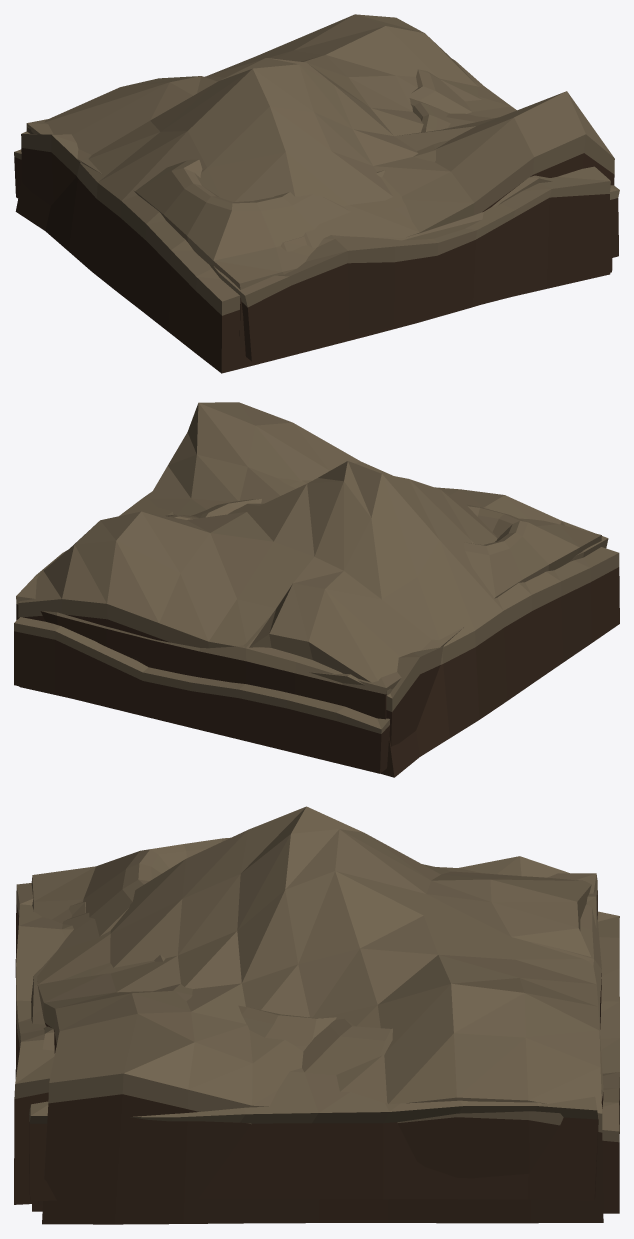
Rendered from MO_Ground.fbx.
The picture shows the model from 3 angles, top to bottom: view 1: azimuth 30°, elevation 25°; view 2: azimuth 150°, elevation 25°; view 3: azimuth 270°, elevation 25°; orthographic projection. The views are drawn at different scales.
Parts seen in each view (by area): view 1: ground.003, ground.001, ground, ground.002, gound.001; view 2: ground.003, ground.002, ground, ground.001, gound.001; view 3: ground.003, ground, ground.001, ground.002, gound.001.
Part boxes in pixels (x1,y1,x2,y2): ground.003: (15, 14, 614, 373); ground.001: (21, 131, 610, 361); ground: (26, 59, 619, 347); ground.002: (14, 149, 552, 251); gound.001: (27, 98, 450, 177); ground.003: (18, 402, 619, 777); ground.002: (14, 617, 389, 773); ground: (16, 478, 601, 719); ground.001: (309, 487, 608, 746); gound.001: (191, 499, 393, 695); ground.003: (37, 806, 603, 1224); ground: (29, 837, 603, 1201); ground.001: (14, 856, 596, 1204); ground.002: (32, 902, 619, 1213); gound.001: (38, 955, 336, 1205).
Bounding box in the file's own units: 373 × 173 × 372.
